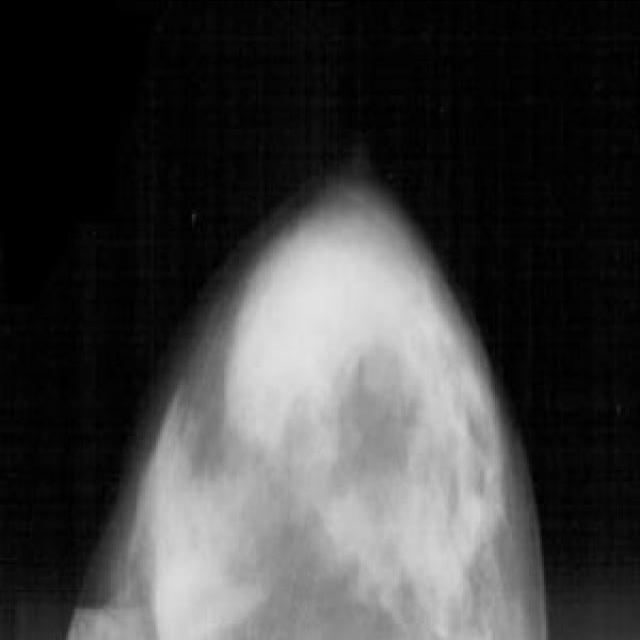tumor: (221, 232, 430, 436)
